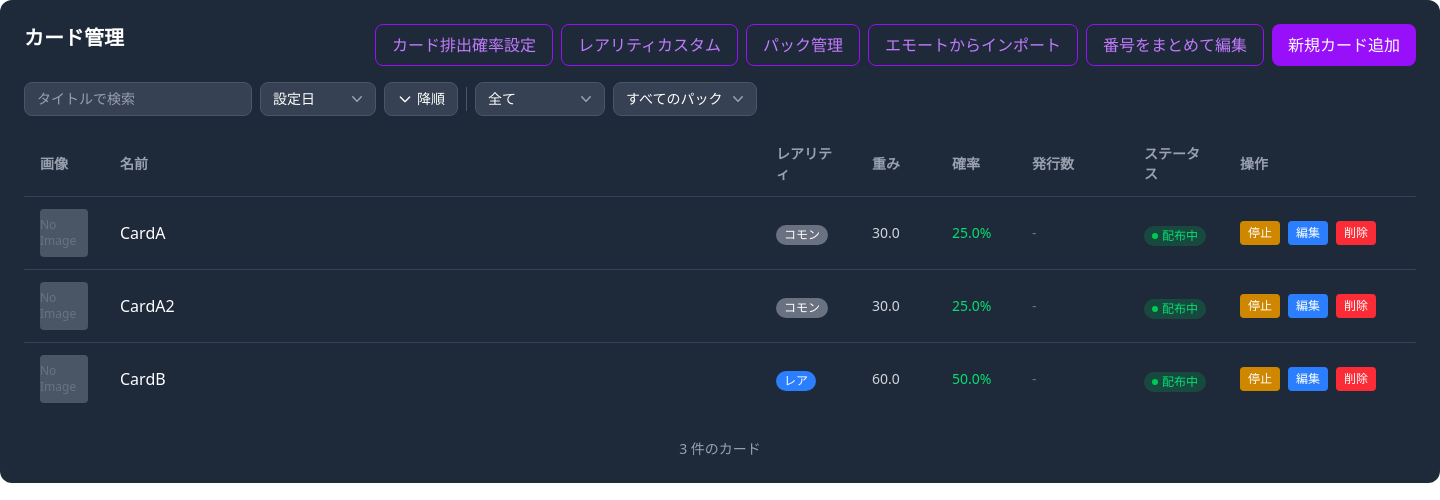
CardManager pack-scoped probability in auto mode (Issue #580) › shows computeEffectiveWeights-based probabilities (not the naive drop_rate ratio) when a pack filter is active
This screenshot has width=1440, height=500.
Select "weapons" in the dropdown named "カードパックで絞り込む" at (685, 99), box [613,82,757,116]
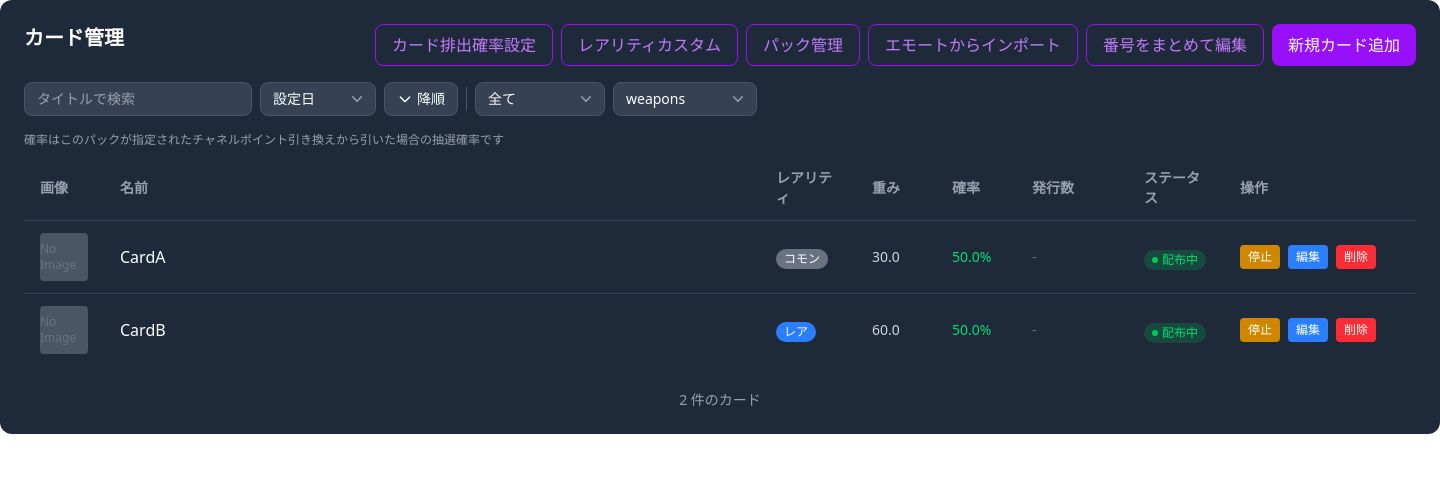
Expected: the text "50.0%" in the row of "CardB" is shown, [952,320,991,339]
Now the text "50.0%" in the row of "CardA" is shown, box [952,247,991,266]
